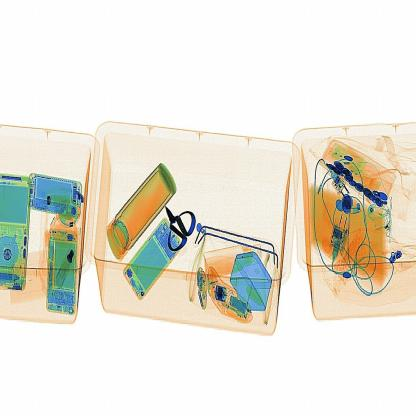gun: (162, 198, 198, 256)
